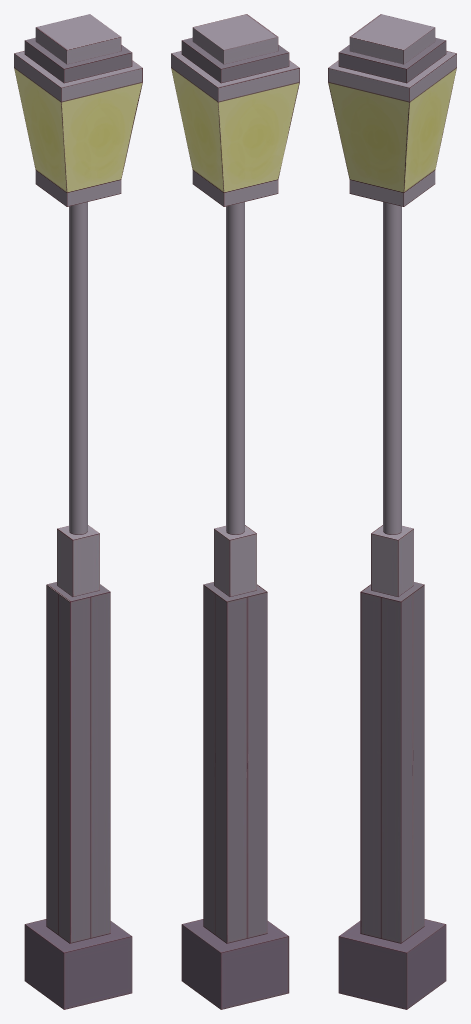
The model's file is TelephonePole.fbx.
3 renders of one model, left to right at view 1: azimuth 30°, elevation 25°; view 2: azimuth 210°, elevation 25°; view 3: azimuth 330°, elevation 25°, orthographic.
Visible parts, largest first — view 1: Box001, Box004; view 2: Box001, Box004; view 3: Box001, Box004.
Boxes of the visible parts, box(x1,y1,x2,y2) form: Box001: box(24, 202, 132, 1009); Box004: box(14, 14, 142, 206); Box001: box(181, 202, 289, 1009); Box004: box(171, 14, 299, 206); Box001: box(338, 202, 446, 1009); Box004: box(328, 14, 456, 206).
Bounding box in the file's own units: 60 × 670 × 60.
